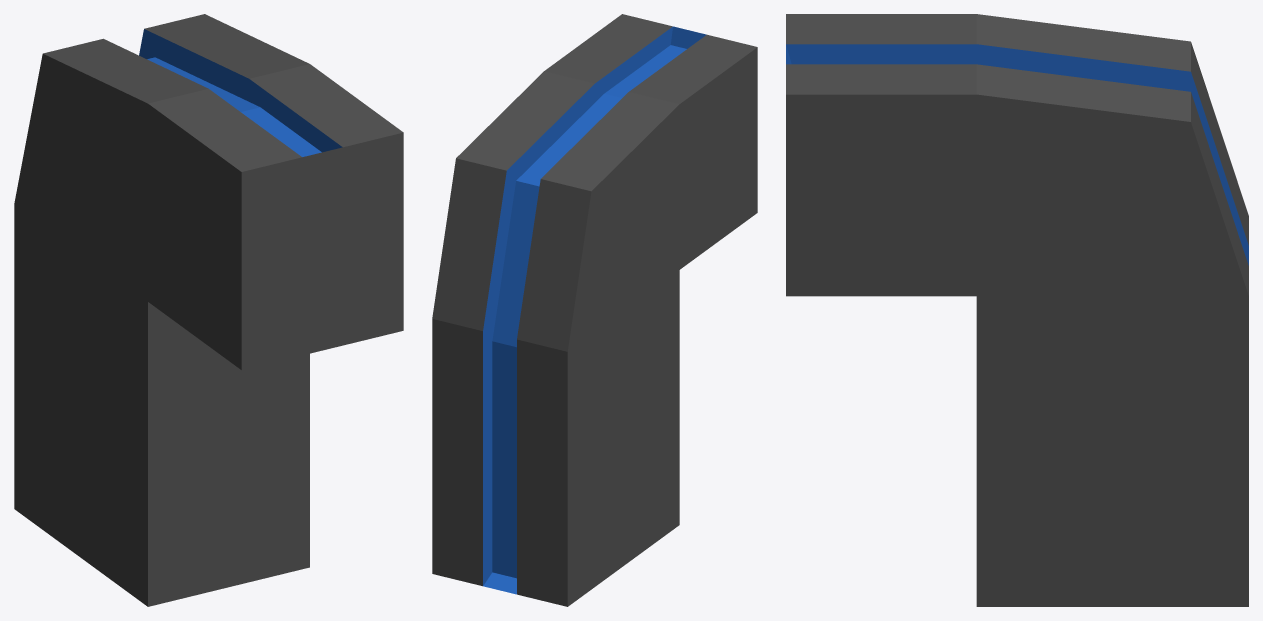
File: elbow.obj
3 views of the same model, side by side, from view 1: azimuth 30°, elevation 25°; view 2: azimuth 150°, elevation 25°; view 3: azimuth 270°, elevation 25° (orthographic). The views are drawn at different scales.
Parts seen in each view (by area): view 1: Elbow; view 2: Elbow; view 3: Elbow.
Boxes of the visible parts, bbox=[...] form: Elbow: bbox=[14, 14, 403, 606]; Elbow: bbox=[432, 14, 757, 606]; Elbow: bbox=[786, 14, 1248, 606].
Size of the model in its own units: 0.1324 by 0.3929 by 0.3215.
